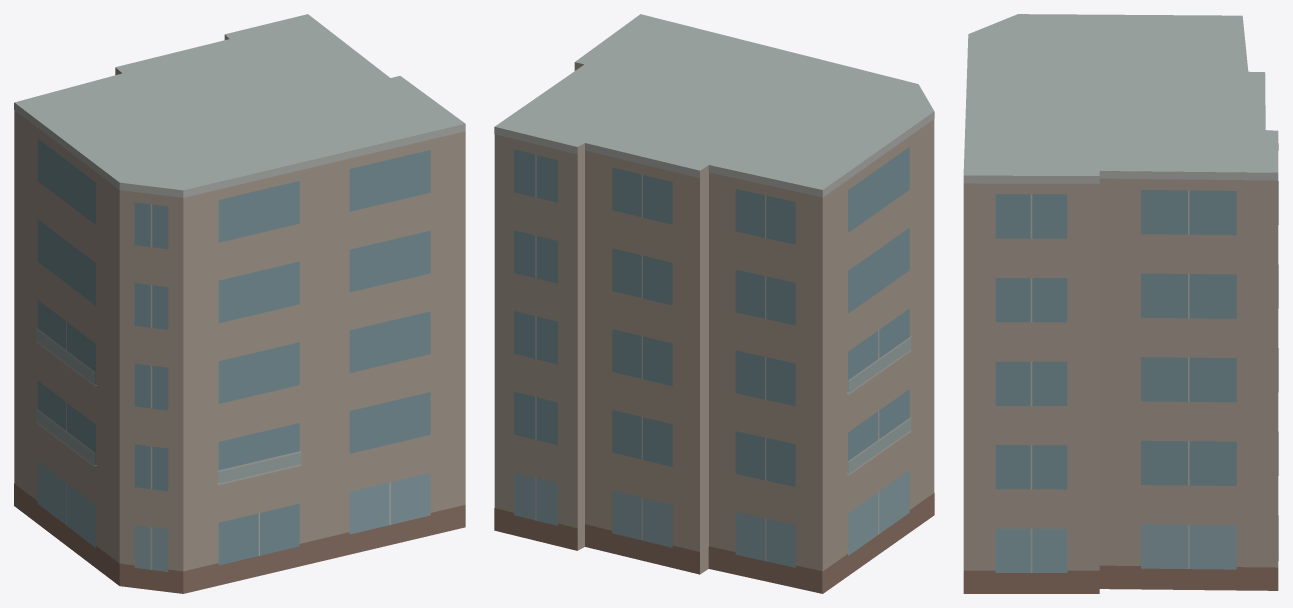
The model's file is survey-upis-32873792.glb.
3 views of the same model, side by side, from view 1: azimuth 30°, elevation 25°; view 2: azimuth 150°, elevation 25°; view 3: azimuth 270°, elevation 25° (orthographic). The views are drawn at different scales.
Parts seen in each view (by area): view 1: survey-upis-32873792.tmp; view 2: survey-upis-32873792.tmp; view 3: survey-upis-32873792.tmp.
Boxes of the visible parts, x1,y1,x2,y2 form: survey-upis-32873792.tmp: (14, 14, 465, 593); survey-upis-32873792.tmp: (494, 14, 934, 593); survey-upis-32873792.tmp: (963, 14, 1278, 593).
Size of the model in its own units: 10.98 by 13.2 by 9.02.
